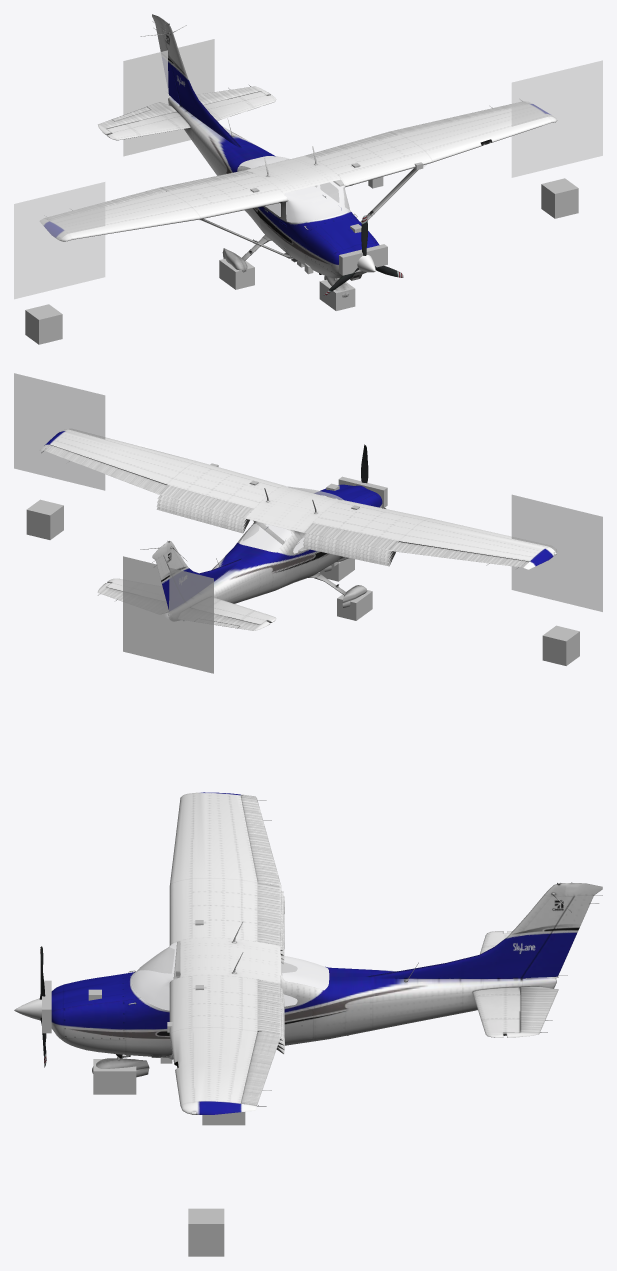
File: custom_callsign_1.gltf
3 views of the same model, one above another, from view 1: azimuth 30°, elevation 25°; view 2: azimuth 150°, elevation 25°; view 3: azimuth 270°, elevation 25° (orthographic). The views are drawn at different scales.
Visible parts, largest first — view 1: Exterior, XLive_2, Pose_flaps_0, XLive_3, XLive_0, Spin_0, XLive_1; view 2: Exterior, Pose_flaps_0, XLive_2, XLive_0, XLive_1, Pose_flaps_1, Pose_flaps_2, XLive_3, Pose_flaps_3, Pose_flaps_4; view 3: Exterior, Pose_flaps_0, XLive_3, XLive_1, XLive_0, XLive_2.
Part boxes in pixels (bbox=[...]): Exterior: bbox=[14, 22, 602, 344]; XLive_2: bbox=[98, 85, 270, 135]; Pose_flaps_0: bbox=[159, 131, 397, 191]; XLive_3: bbox=[152, 14, 180, 105]; XLive_0: bbox=[391, 101, 528, 134]; Spin_0: bbox=[324, 215, 403, 295]; XLive_1: bbox=[44, 188, 166, 220]; Exterior: bbox=[14, 373, 602, 673]; Pose_flaps_0: bbox=[158, 485, 398, 550]; XLive_2: bbox=[97, 583, 270, 630]; XLive_0: bbox=[41, 444, 166, 494]; XLive_1: bbox=[390, 542, 528, 568]; Pose_flaps_1: bbox=[157, 495, 393, 555]; Pose_flaps_2: bbox=[157, 499, 393, 559]; XLive_3: bbox=[152, 543, 183, 612]; Pose_flaps_3: bbox=[156, 503, 393, 563]; Pose_flaps_4: bbox=[156, 507, 395, 566]; Exterior: bbox=[14, 792, 574, 1256]; Pose_flaps_0: bbox=[257, 882, 281, 1034]; XLive_3: bbox=[521, 883, 602, 978]; XLive_1: bbox=[241, 796, 281, 886]; XLive_0: bbox=[240, 1032, 281, 1106]; XLive_2: bbox=[506, 931, 558, 1037].
Size of the model in its own units: 12.92 by 3.27 by 8.5.
Materials: 13 (8 with a texture image).
